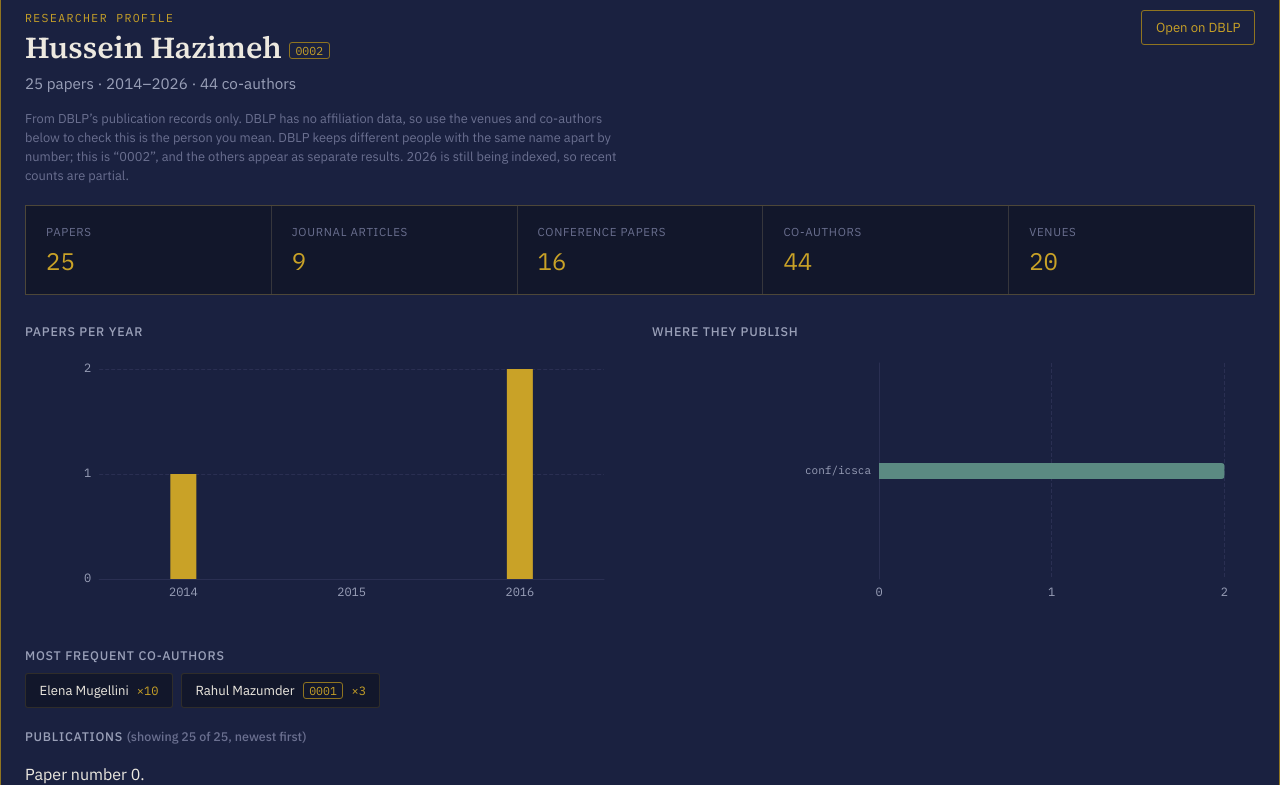
Scenario: AuthorPage › links co-authors to their own profiles
Expected: the link "Rahul Mazumder 0001 ×3" is shown, [181, 673, 380, 708]
Click the link "Elena Mugellini ×10": [99, 690] box [25, 673, 173, 708]
(page scrolled)
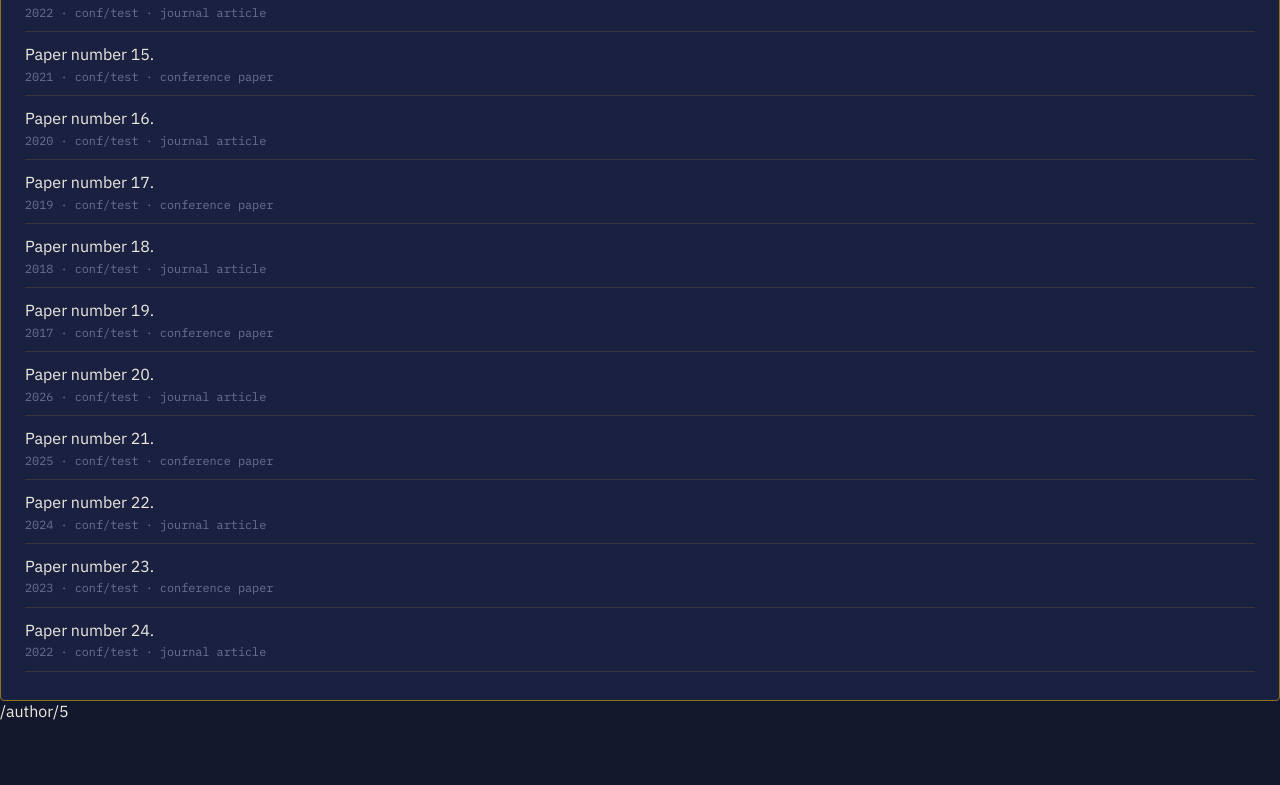
Expected: the text with test id "location" reads "/author/5", [0, 701, 69, 721]
